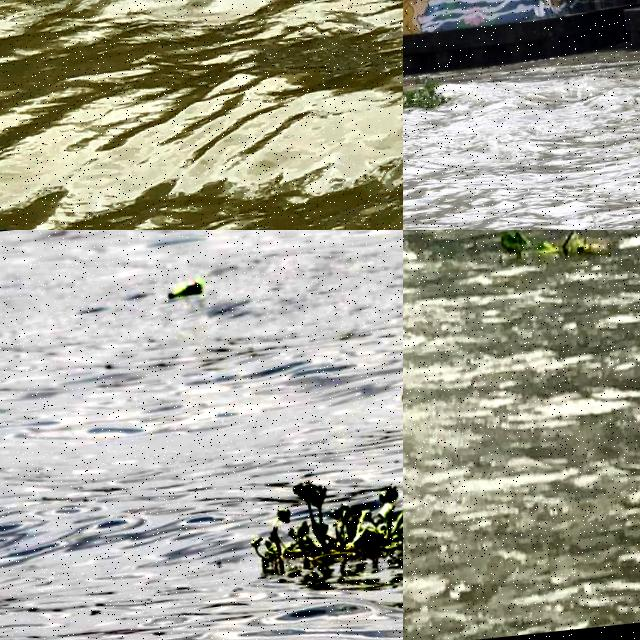water-hyacinth: (238, 462, 404, 586), (492, 231, 617, 272), (404, 76, 451, 116)
